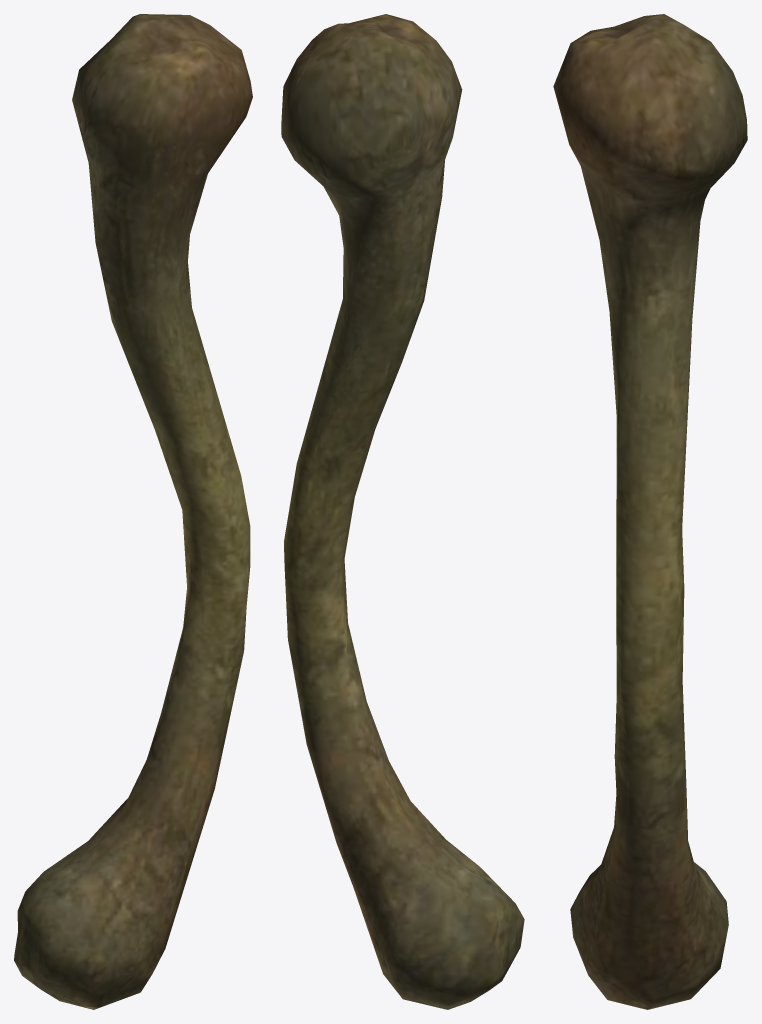
Rendered from Biomass - B 3-DntNm65n.glb.
3 views of the same model, side by side, from view 1: azimuth 30°, elevation 25°; view 2: azimuth 150°, elevation 25°; view 3: azimuth 270°, elevation 25° (orthographic). The views are drawn at different scales.
Visible parts, largest first — view 1: BiomassB_3; view 2: BiomassB_3; view 3: BiomassB_3.
Boxes of the visible parts, x1=… form: BiomassB_3: x1=14, y1=14, x2=252, y2=1009; BiomassB_3: x1=281, y1=14, x2=524, y2=1009; BiomassB_3: x1=553, y1=14, x2=747, y2=1009.
Size of the model in its own units: 0.5229 by 2.17 by 0.376.
Materials: 1 (1 with a texture image).
